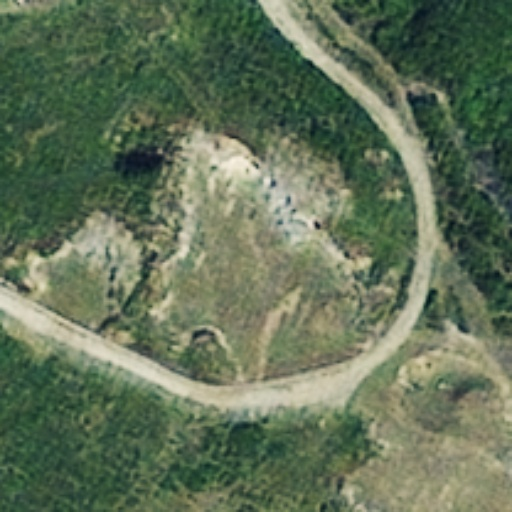landslide: (154, 127, 352, 354)
